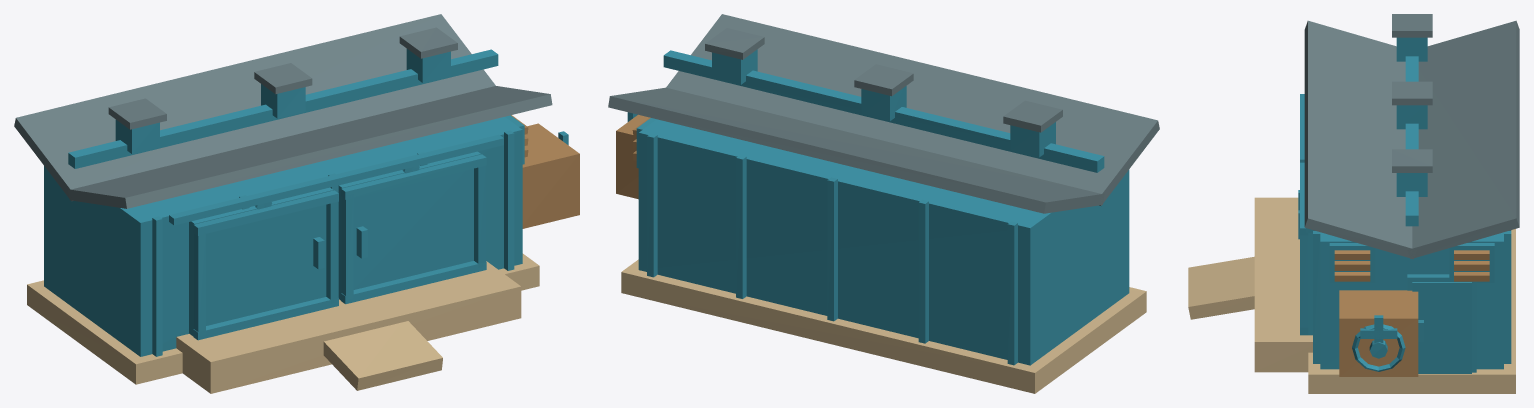
The model's file is refrigerated-warehouse.source.glb.
3 views of the same model, side by side, from view 1: azimuth 30°, elevation 25°; view 2: azimuth 150°, elevation 25°; view 3: azimuth 270°, elevation 25° (orthographic). The views are drawn at different scales.
Visible parts, largest first — view 1: refrigerated-warehouse-insulated-warehouse-shell-mesh, refrigerated-warehouse-shallow-roof--0.43-mesh, refrigerated-warehouse-front-loading-dock-mesh, refrigerated-warehouse-shallow-roof-0.43-mesh, refrigerated-warehouse-left-door-panel-mesh, refrigerated-warehouse-right-door-panel-mesh, refrigerated-warehouse-roof-ridge-mesh, refrigerated-warehouse-low-stone-foundation-mesh, refrigerated-warehouse-short-dock-ramp-mesh, refrigerated-warehouse-condenser-casing-mesh, refrigerated-warehouse-loading-door-track-mesh, refrigerated-warehouse-left-top-seal-mesh (+15 smaller); view 2: refrigerated-warehouse-insulated-warehouse-shell-mesh, refrigerated-warehouse-shallow-roof-0.43-mesh, refrigerated-warehouse-shallow-roof--0.43-mesh, refrigerated-warehouse-low-stone-foundation-mesh, refrigerated-warehouse-roof-ridge-mesh, refrigerated-warehouse-condenser-casing-mesh, refrigerated-warehouse-rear-frame--1.62-mesh, refrigerated-warehouse-rear-frame-1.62-mesh, refrigerated-warehouse-rear-frame--0.82-mesh, refrigerated-warehouse-rear-frame-0.82-mesh, refrigerated-warehouse-rear-frame-0-mesh, refrigerated-warehouse-roof-vent-cap-0-mesh (+5 smaller); view 3: refrigerated-warehouse-shallow-roof-0.43-mesh, refrigerated-warehouse-shallow-roof--0.43-mesh, refrigerated-warehouse-front-loading-dock-mesh, refrigerated-warehouse-insulated-warehouse-shell-mesh, refrigerated-warehouse-condenser-casing-mesh, refrigerated-warehouse-low-stone-foundation-mesh, refrigerated-warehouse-service-door-panel-mesh, refrigerated-warehouse-short-dock-ramp-mesh, refrigerated-warehouse-roof-ridge-mesh, refrigerated-warehouse-rear-frame-1.62-mesh, refrigerated-warehouse-front-frame-1.62-mesh, refrigerated-warehouse-roof-vent-cap-0-mesh (+20 smaller).
Part boxes in pixels (bbox=[...]): refrigerated-warehouse-insulated-warehouse-shell-mesh: bbox=[44, 117, 522, 356]; refrigerated-warehouse-shallow-roof--0.43-mesh: bbox=[14, 14, 495, 201]; refrigerated-warehouse-front-loading-dock-mesh: bbox=[176, 261, 521, 393]; refrigerated-warehouse-shallow-roof-0.43-mesh: bbox=[68, 86, 552, 208]; refrigerated-warehouse-left-door-panel-mesh: bbox=[189, 187, 333, 335]; refrigerated-warehouse-right-door-panel-mesh: bbox=[338, 151, 480, 300]; refrigerated-warehouse-roof-ridge-mesh: bbox=[68, 49, 498, 168]; refrigerated-warehouse-low-stone-foundation-mesh: bbox=[27, 253, 539, 384]; refrigerated-warehouse-short-dock-ramp-mesh: bbox=[323, 321, 442, 390]; refrigerated-warehouse-condenser-casing-mesh: bbox=[522, 123, 579, 228]; refrigerated-warehouse-loading-door-track-mesh: bbox=[169, 134, 503, 225]; refrigerated-warehouse-left-top-seal-mesh: bbox=[193, 190, 338, 235]; refrigerated-warehouse-insulated-warehouse-shell-mesh: bbox=[638, 119, 1129, 365]; refrigerated-warehouse-shallow-roof-0.43-mesh: bbox=[666, 14, 1159, 205]; refrigerated-warehouse-shallow-roof--0.43-mesh: bbox=[608, 87, 1104, 213]; refrigerated-warehouse-low-stone-foundation-mesh: bbox=[621, 259, 1146, 393]; refrigerated-warehouse-roof-ridge-mesh: bbox=[663, 50, 1104, 172]; refrigerated-warehouse-condenser-casing-mesh: bbox=[616, 114, 649, 199]; refrigerated-warehouse-rear-frame--1.62-mesh: bbox=[1007, 221, 1017, 365]; refrigerated-warehouse-rear-frame-1.62-mesh: bbox=[647, 133, 657, 277]; refrigerated-warehouse-rear-frame--0.82-mesh: bbox=[918, 199, 928, 343]; refrigerated-warehouse-rear-frame-0.82-mesh: bbox=[736, 155, 746, 298]; refrigerated-warehouse-rear-frame-0-mesh: bbox=[827, 177, 837, 321]; refrigerated-warehouse-roof-vent-cap-0-mesh: bbox=[854, 64, 913, 96]; refrigerated-warehouse-shallow-roof-0.43-mesh: bbox=[1304, 20, 1416, 259]; refrigerated-warehouse-shallow-roof--0.43-mesh: bbox=[1407, 20, 1519, 258]; refrigerated-warehouse-front-loading-dock-mesh: bbox=[1254, 197, 1312, 372]; refrigerated-warehouse-insulated-warehouse-shell-mesh: bbox=[1320, 232, 1503, 369]; refrigerated-warehouse-condenser-casing-mesh: bbox=[1339, 290, 1418, 376]; refrigerated-warehouse-low-stone-foundation-mesh: bbox=[1308, 229, 1515, 393]; refrigerated-warehouse-service-door-panel-mesh: bbox=[1412, 282, 1471, 373]; refrigerated-warehouse-short-dock-ramp-mesh: bbox=[1188, 256, 1254, 319]; refrigerated-warehouse-roof-ridge-mesh: bbox=[1405, 56, 1418, 226]; refrigerated-warehouse-rear-frame-1.62-mesh: bbox=[1504, 231, 1511, 363]; refrigerated-warehouse-front-frame-1.62-mesh: bbox=[1313, 231, 1320, 363]; refrigerated-warehouse-roof-vent-cap-0-mesh: bbox=[1392, 81, 1432, 105].
Bounding box in the file's own units: 4.42 × 1.94 × 2.78.
